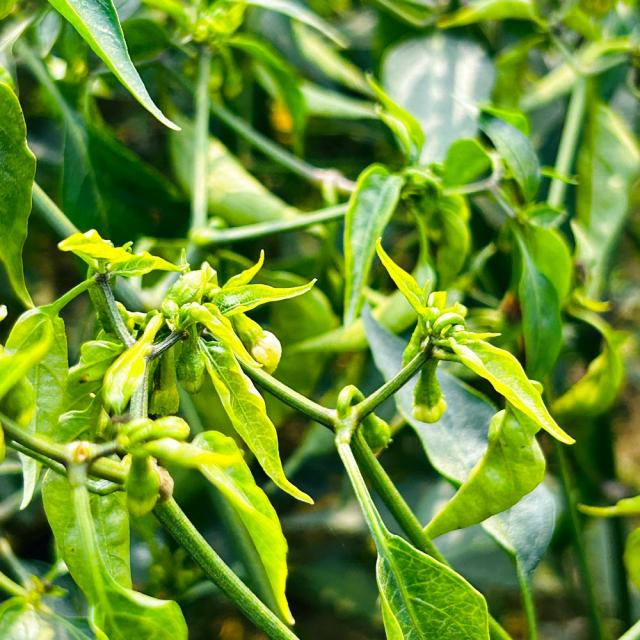Chilli_Leaf_Curl: (2, 0, 636, 638), (3, 229, 320, 637), (334, 235, 576, 638), (100, 246, 319, 504), (371, 236, 577, 446), (46, 0, 182, 132), (420, 405, 547, 540), (446, 330, 577, 446), (340, 161, 404, 330)
